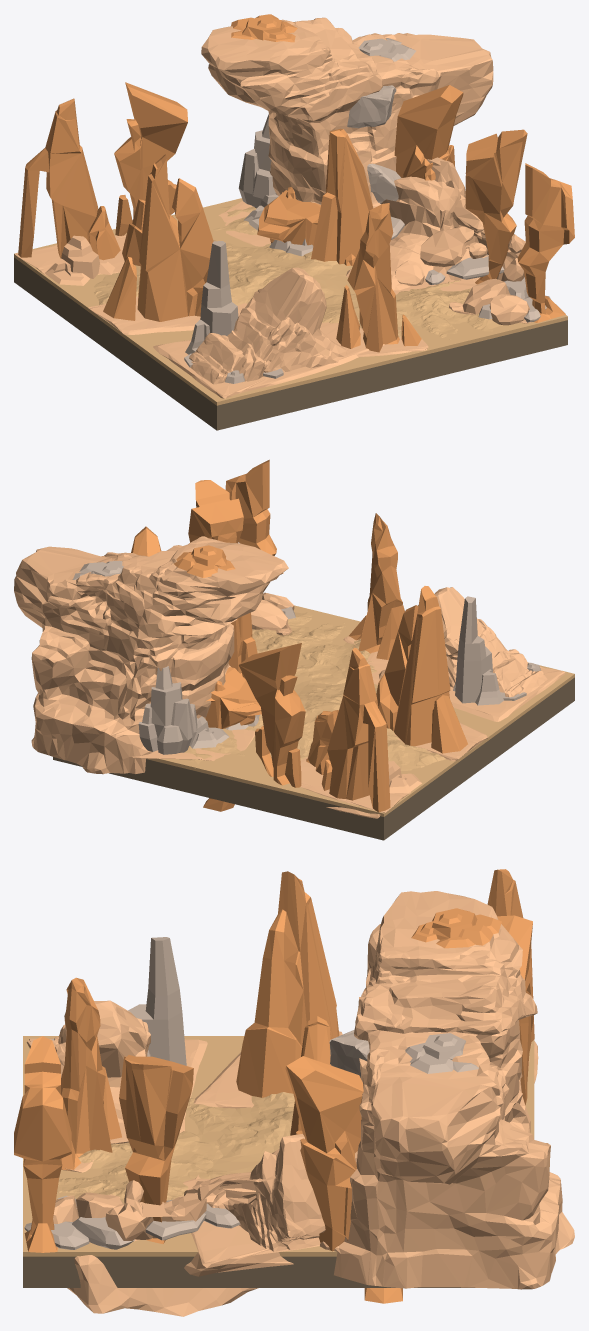
File: Canyon_Rocks.fbx
3 views of the same model, one above another, from view 1: azimuth 30°, elevation 25°; view 2: azimuth 150°, elevation 25°; view 3: azimuth 270°, elevation 25° (orthographic). The views are drawn at different scales.
Parts seen in each view (by area): view 1: Rock_Shale_Outcrops_Large_01, Cube (1), Rock_Large_Canyon_Eroded_09, Rock_Shale_Outcrops_Large_03, Rock_Large_Canyon_Eroded_08, Cube, Terrain_Rock_Corner_Scatter_01, Rock_Large_Canyon_Eroded_10, Rock_Large_Canyon_Eroded_25, Rock_Large_Canyon_Eroded_11, Terrain_Mountain_Range_Large_Stone_01, Rock_Large_Canyon_Eroded_13 (+20 smaller); view 2: Rock_Shale_Outcrops_Large_01, Cube (1), Rock_Large_Canyon_Eroded_09, Rock_Large_Canyon_Eroded_08, Cube, Rock_Large_Canyon_Eroded_11, Rock_Large_Canyon_Eroded_10, Terrain_Mountain_Range_Large_Stone_01 (1), Terrain_Mountain_Range_Large_Stone_01, Rock_Shale_Outcrops_Large_03, Rock_Large_Stone_Floating_Stone_03, Rock_Large_Mesa_Eroded_Stone_Cluster_02 (+15 smaller); view 3: Rock_Shale_Outcrops_Large_01, Rock_Large_Canyon_Eroded_09, Rock_Large_Canyon_Eroded_20, Cube (1), Rock_Large_Canyon_Eroded_18, Rock_Large_Canyon_Eroded_25, Rock_Shale_Outcrops_Large_02, Rock_Large_Canyon_Eroded_10, Cube, Terrain_Mountain_Range_Large_Stone_01, Terrain_Rock_Corner_Scatter_01, Rock_Large_Stone_01 (+17 smaller).
Boxes of the visible parts, <box> form: Rock_Shale_Outcrops_Large_01: <box>201,17,493,208</box>; Cube (1): <box>14,257,567,430</box>; Rock_Large_Canyon_Eroded_09: <box>103,154,213,321</box>; Rock_Shale_Outcrops_Large_03: <box>189,267,348,384</box>; Rock_Large_Canyon_Eroded_08: <box>18,98,120,260</box>; Cube: <box>14,198,567,405</box>; Terrain_Rock_Corner_Scatter_01: <box>395,194,529,325</box>; Rock_Large_Canyon_Eroded_10: <box>336,203,421,352</box>; Rock_Large_Canyon_Eroded_25: <box>465,129,527,284</box>; Rock_Large_Canyon_Eroded_11: <box>114,82,187,235</box>; Terrain_Mountain_Range_Large_Stone_01: <box>94,205,355,305</box>; Rock_Large_Canyon_Eroded_13: <box>311,128,373,264</box>; Rock_Shale_Outcrops_Large_01: <box>14,536,288,774</box>; Cube (1): <box>53,677,574,840</box>; Rock_Large_Canyon_Eroded_09: <box>376,586,467,753</box>; Rock_Large_Canyon_Eroded_08: <box>321,647,390,812</box>; Cube: <box>146,605,574,816</box>; Rock_Large_Canyon_Eroded_11: <box>238,643,305,787</box>; Rock_Large_Canyon_Eroded_10: <box>349,513,404,659</box>; Terrain_Mountain_Range_Large_Stone_01 (1): <box>252,612,376,684</box>; Terrain_Mountain_Range_Large_Stone_01: <box>184,665,445,770</box>; Rock_Shale_Outcrops_Large_03: <box>379,587,547,697</box>; Rock_Large_Stone_Floating_Stone_03: <box>138,666,197,754</box>; Rock_Large_Mesa_Eroded_Stone_Cluster_02: <box>453,596,505,705</box>; Rock_Shale_Outcrops_Large_01: <box>320,891,574,1289</box>; Rock_Large_Canyon_Eroded_09: <box>236,871,339,1097</box>; Rock_Large_Canyon_Eroded_20: <box>285,1056,363,1251</box>; Cube (1): <box>23,1256,474,1287</box>; Rock_Large_Canyon_Eroded_18: <box>14,1036,71,1252</box>; Rock_Large_Canyon_Eroded_25: <box>119,1055,193,1243</box>; Rock_Shale_Outcrops_Large_02: <box>192,1134,325,1251</box>; Rock_Large_Canyon_Eroded_10: <box>61,977,121,1170</box>; Cube: <box>23,1036,534,1256</box>; Terrain_Mountain_Range_Large_Stone_01: <box>186,1092,294,1178</box>; Terrain_Rock_Corner_Scatter_01: <box>53,1176,275,1240</box>; Rock_Large_Stone_01: <box>67,1175,258,1316</box>.
Size of the model in its own units: 39.2 by 25.58 by 35.11.
